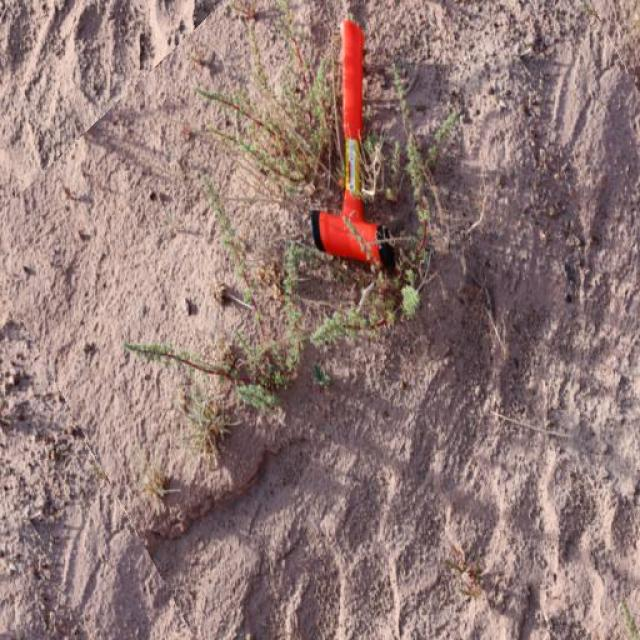mallet: (307, 18, 395, 270)
